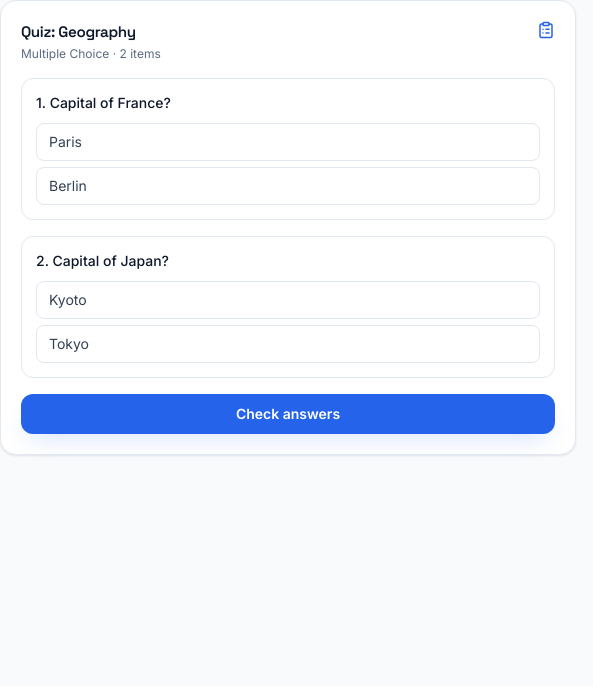
Test case: QuizCard — take vs review › grades a persisted quiz from the server result and then shows the explanations
The width and height of the screenshot is (593, 686).
Click the button "Berlin" at (68, 185), box [36, 167, 540, 205]
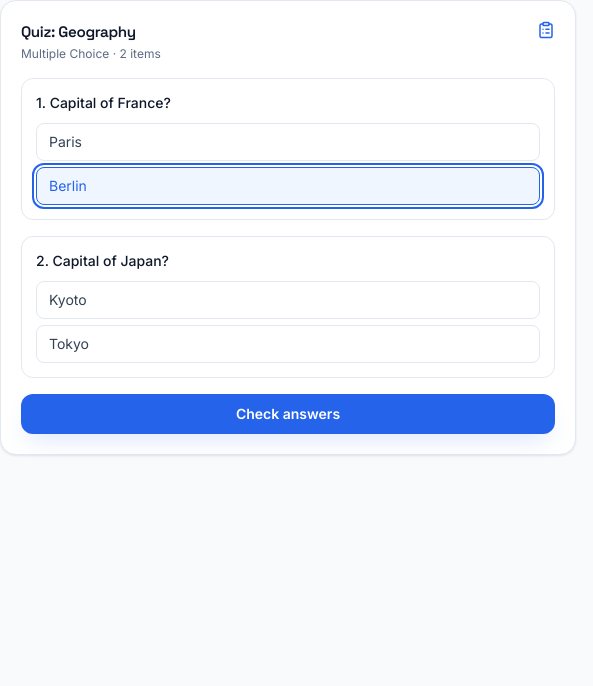
Click the button "Tokyo" at (69, 343), box [36, 325, 540, 363]
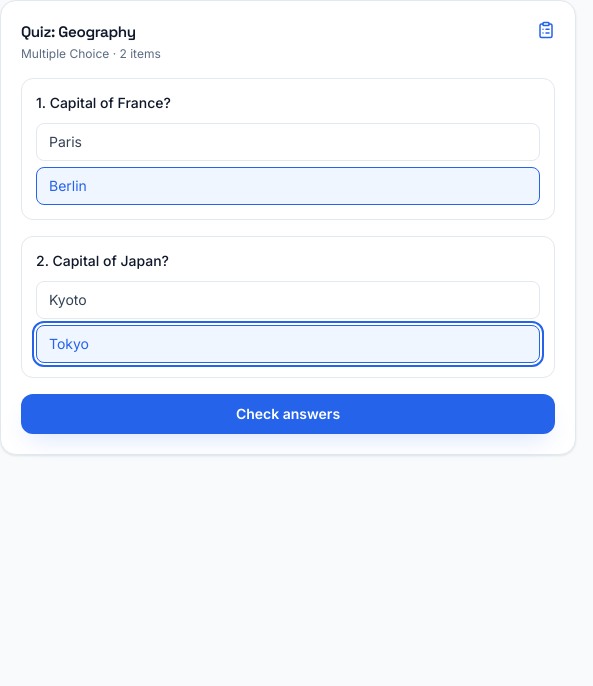
Click the button "Check answers" at (288, 414), box [21, 394, 555, 434]
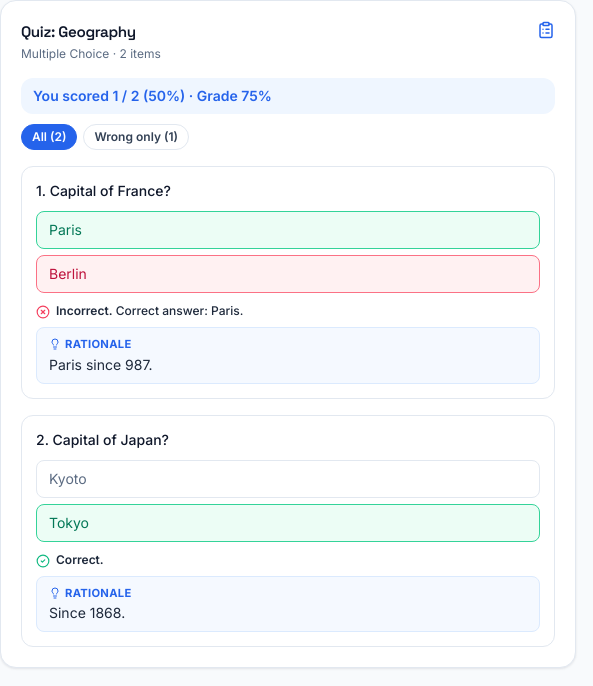
Expected: the text "You scored 1 / 2 (50%) · Grade 75%" is shown, [21, 78, 555, 114]
Expected: the text "Correct answer: Paris." is shown, [112, 303, 243, 318]
Expected: the text "Paris since 987." is shown, [49, 356, 153, 373]
